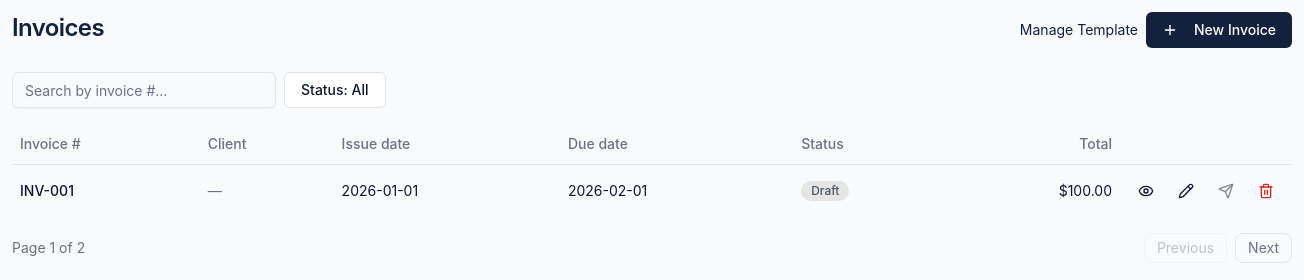
Test: InvoicesListPage › clicking next page navigates forward
Click the button with test id "btn-next-page".
click(1264, 248)  # box x1=1235 y1=232 x2=1292 y2=262
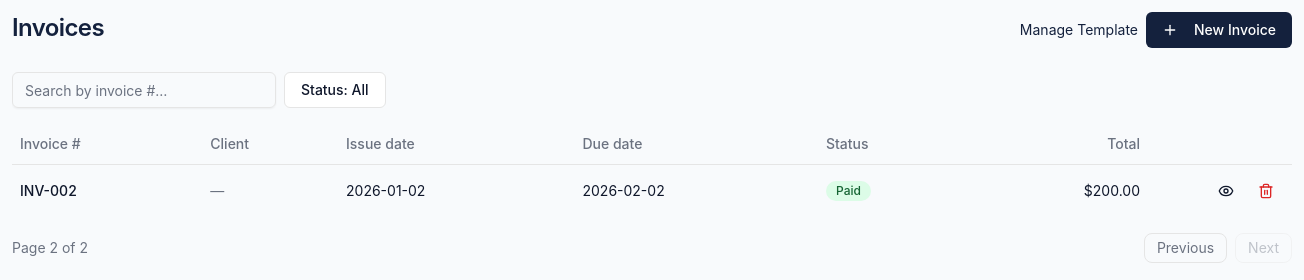
Expected: the text "INV-002" is shown, x1=12 y1=164 x2=202 y2=216
